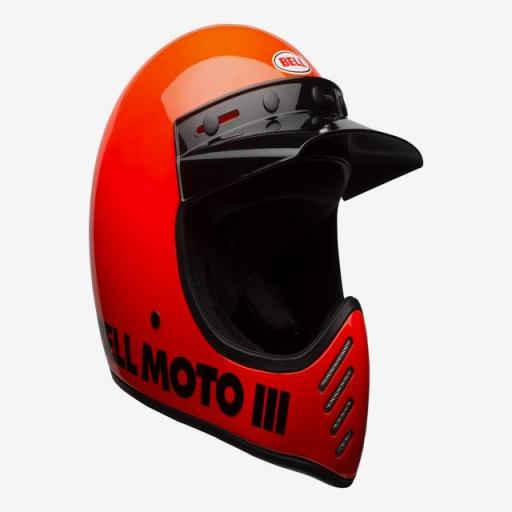Helmet: (91, 26, 421, 486)
